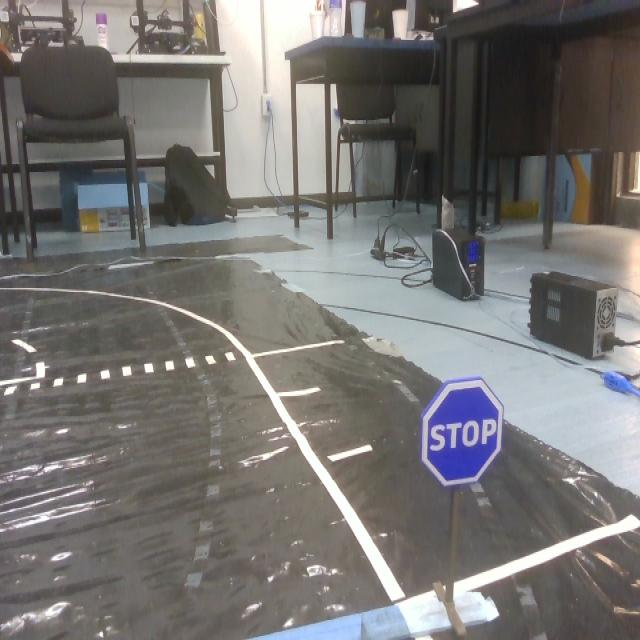no_entry: (423, 382, 501, 498)
